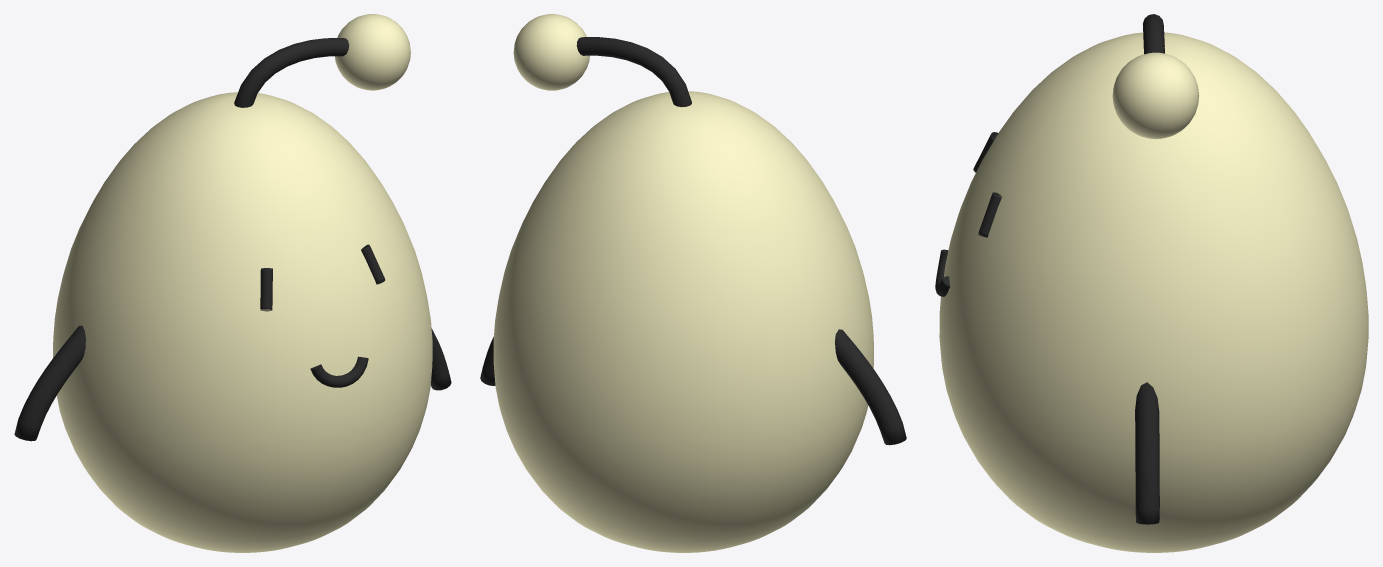
File: isty.glb
3 renders of one model, left to right at view 1: azimuth 30°, elevation 25°; view 2: azimuth 150°, elevation 25°; view 3: azimuth 270°, elevation 25°, orthographic. The views are drawn at different scales.
Parts seen in each view (by area): view 1: Sphere, Sphere.001, arm_left, tuno, BézierCurve.001, arm_right, BézierCurve.003; view 2: Sphere, Sphere.001, arm_left, tuno; view 3: Sphere, Sphere.001, arm_right, tuno.
Part boxes in pixels (box(x1,y1,x2,y2)): Sphere: box(53, 92, 432, 552); Sphere.001: box(335, 14, 410, 90); arm_left: box(14, 325, 85, 441); tuno: box(234, 38, 349, 107); BézierCurve.001: box(310, 356, 368, 387); arm_right: box(431, 328, 451, 390); BézierCurve.003: box(260, 268, 272, 311); Sphere: box(493, 91, 873, 552); Sphere.001: box(513, 14, 589, 90); arm_left: box(835, 329, 906, 445); tuno: box(576, 37, 691, 106); Sphere: box(939, 32, 1368, 552); Sphere.001: box(1112, 52, 1199, 139); arm_right: box(1135, 382, 1159, 524); tuno: box(1143, 14, 1164, 54).
Bounding box in the file's own units: 3.21 × 3.4 × 2.48.
